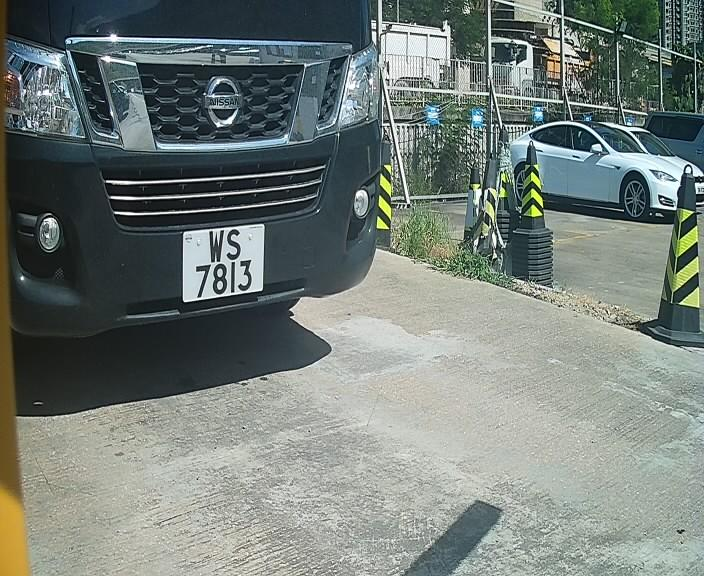License Plate: (170, 222, 274, 304)
